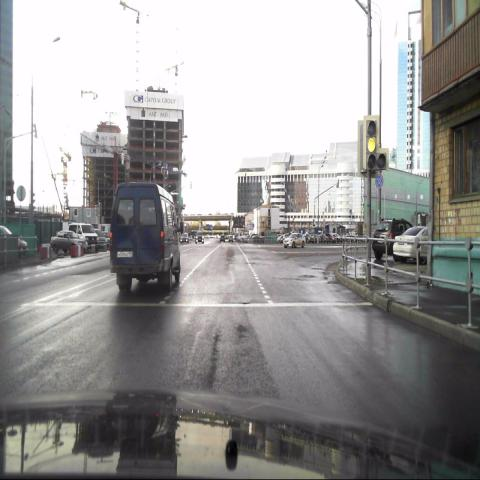3_27: (374, 172, 384, 188)
